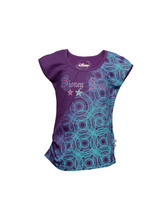clothoes: (32, 47, 133, 171)
